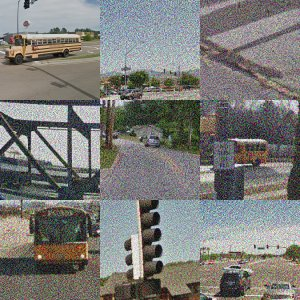汽車: (1, 151, 27, 184), (156, 132, 180, 154), (268, 166, 297, 182), (116, 124, 131, 132), (135, 123, 145, 131)
紅綠燈: (27, 48, 58, 99), (170, 228, 192, 257)
